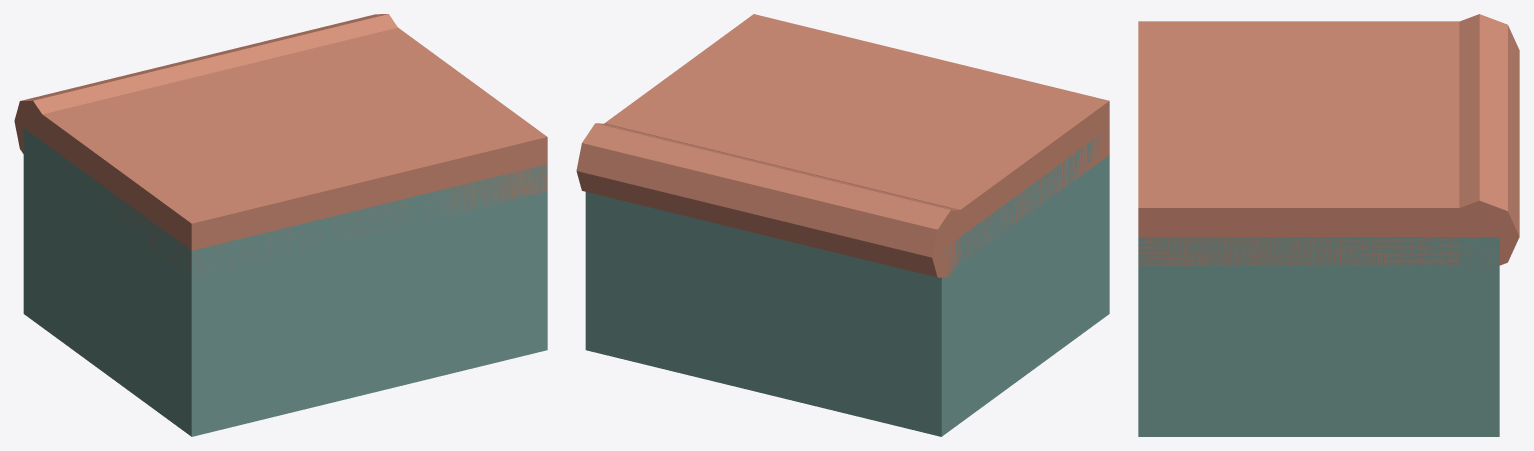
The model's file is TH_Tile_3.fbx.
The picture shows the model from 3 angles, left to right: view 1: azimuth 30°, elevation 25°; view 2: azimuth 150°, elevation 25°; view 3: azimuth 270°, elevation 25°; orthographic projection. The views are drawn at different scales.
Visible parts, largest first — view 1: TH_Tile_3; view 2: TH_Tile_3; view 3: TH_Tile_3.
Part boxes in pixels (bbox=[...]): TH_Tile_3: bbox=[14, 14, 547, 436]; TH_Tile_3: bbox=[576, 14, 1109, 436]; TH_Tile_3: bbox=[1138, 14, 1519, 436].
Bounding box in the file's own units: 1.1 × 0.65 × 0.95.
